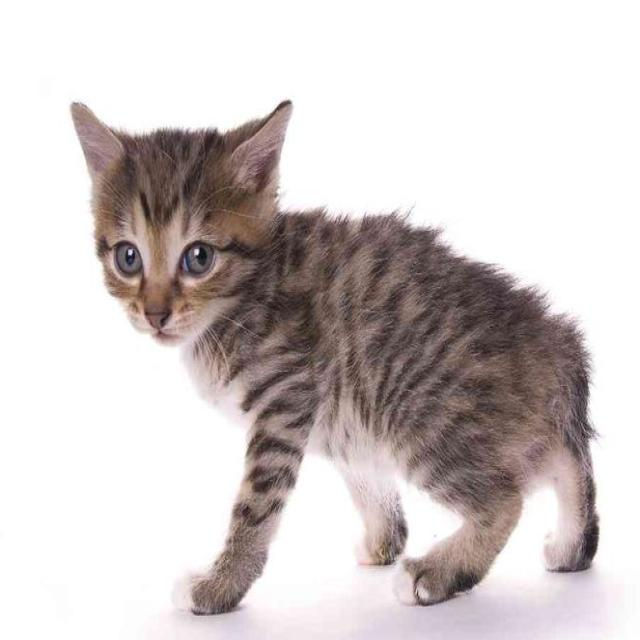American Bobtail: (66, 92, 604, 623)
